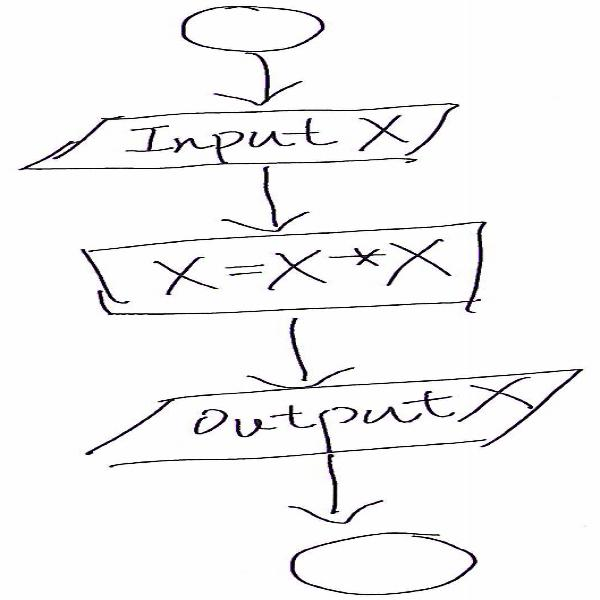arrow: (258, 460, 404, 525), (247, 320, 368, 392), (212, 166, 332, 236), (198, 54, 314, 112)
data: (65, 368, 589, 465), (20, 103, 459, 171)
process: (54, 222, 537, 320)
terminator: (284, 525, 510, 600), (156, 1, 374, 52)
text: (190, 373, 543, 455), (152, 237, 465, 295), (130, 113, 434, 155)
